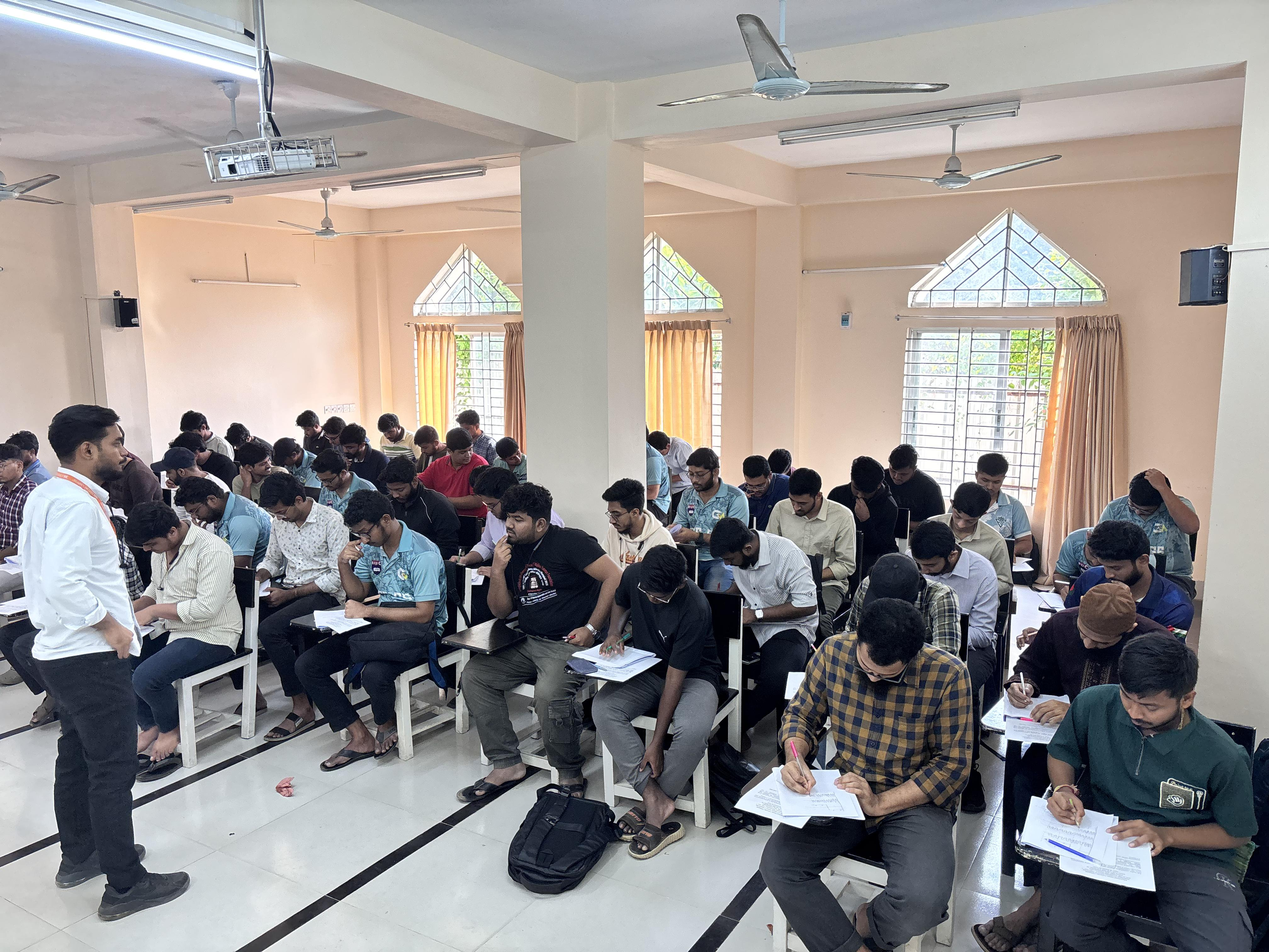copying: (437, 430, 479, 487), (490, 432, 535, 476)
invigilator: (25, 398, 181, 904)
no_cheating: (1031, 631, 1253, 910), (767, 598, 949, 887), (597, 545, 712, 782), (319, 487, 433, 711), (123, 495, 221, 718), (487, 483, 589, 689), (248, 472, 355, 664), (1031, 582, 1139, 717), (702, 516, 805, 626), (769, 466, 852, 576), (1108, 460, 1197, 556), (909, 519, 982, 622), (1085, 513, 1161, 594), (172, 471, 244, 556), (840, 452, 901, 548), (677, 445, 734, 545), (471, 469, 525, 565), (377, 463, 434, 533), (881, 440, 932, 517), (597, 477, 643, 541), (940, 480, 987, 539), (309, 450, 355, 504), (271, 430, 311, 481), (975, 447, 1011, 502), (736, 448, 774, 498), (339, 421, 378, 469), (290, 406, 327, 447), (410, 425, 441, 469), (373, 412, 406, 452)
side_talking: (237, 439, 275, 479)
